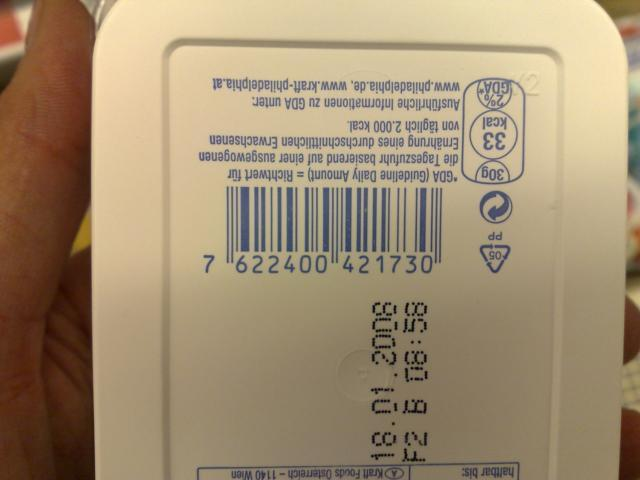Barcode: (190, 182, 462, 289)
